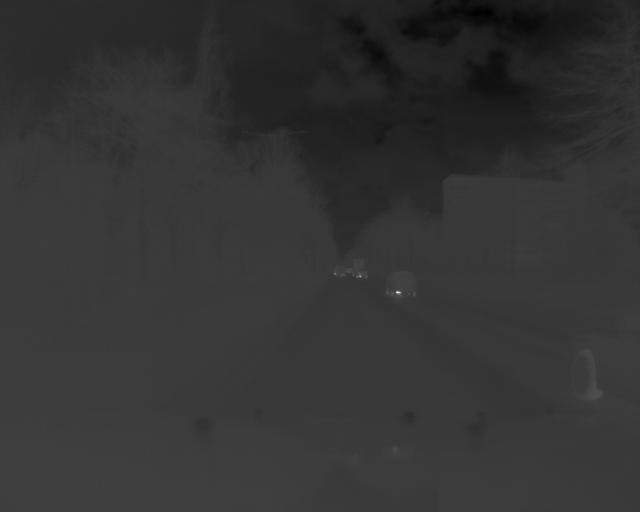car: (386, 268, 422, 300), (335, 263, 348, 279), (356, 268, 369, 280)
